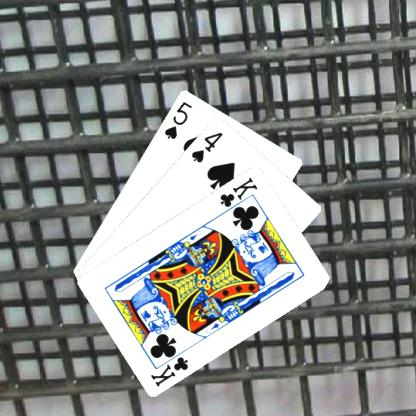4S: (189, 128, 224, 164)
5S: (161, 98, 193, 141)
KC: (148, 345, 190, 388), (218, 174, 260, 216)
